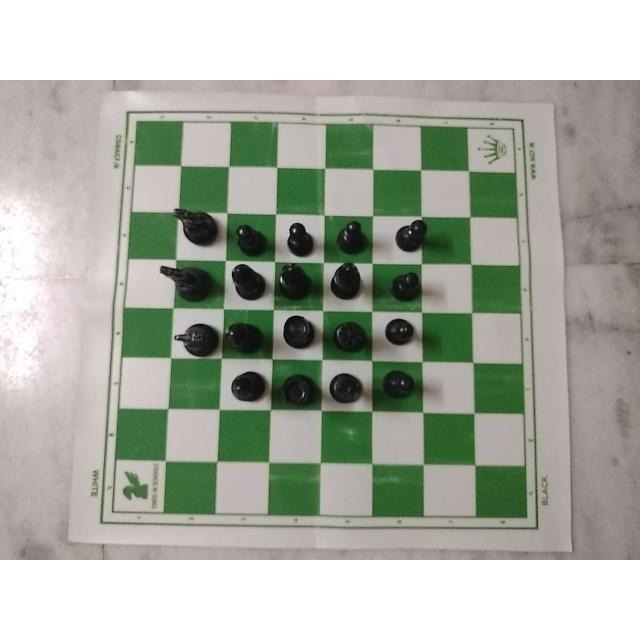black-bishop: (226, 360, 282, 408), (321, 364, 371, 415), (219, 318, 271, 360), (328, 259, 373, 306), (227, 258, 268, 307), (328, 319, 372, 359), (275, 259, 315, 299)
black-knight: (168, 311, 216, 363), (159, 260, 221, 298), (169, 205, 220, 247)
black-pawn: (379, 369, 423, 408), (384, 317, 424, 359), (282, 217, 322, 257), (334, 220, 374, 257), (393, 271, 426, 310), (232, 222, 266, 259), (395, 216, 427, 255)
black-rook: (275, 369, 321, 415), (279, 318, 319, 360)
